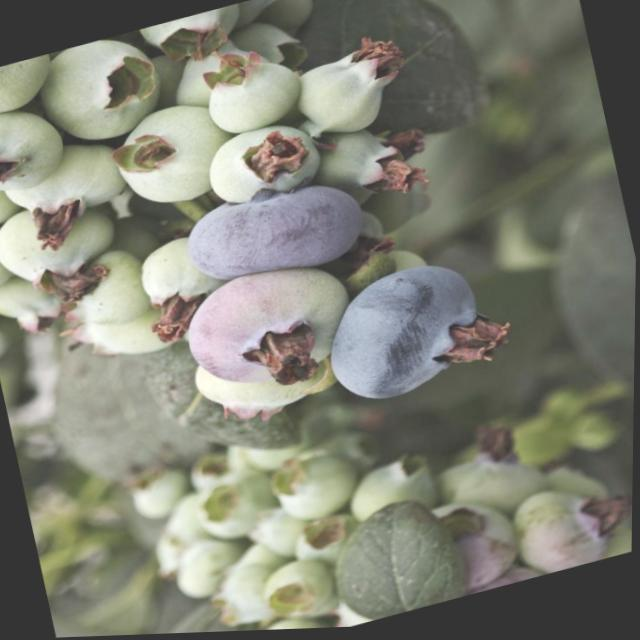RipeBlueBerry: (312, 251, 498, 415), (177, 166, 375, 298)
Semi-RipeBlueBerry: (174, 251, 360, 403)
UnripeBlueBerry: (30, 25, 172, 155), (100, 93, 236, 220), (0, 189, 127, 300), (201, 116, 328, 214), (509, 479, 626, 584), (197, 40, 310, 143), (295, 44, 401, 144), (133, 230, 226, 321), (0, 96, 72, 203)
